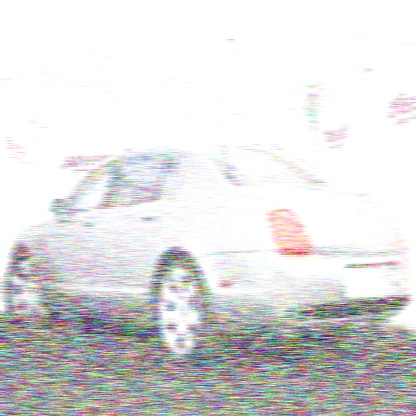Vehicle: (9, 147, 413, 370)
